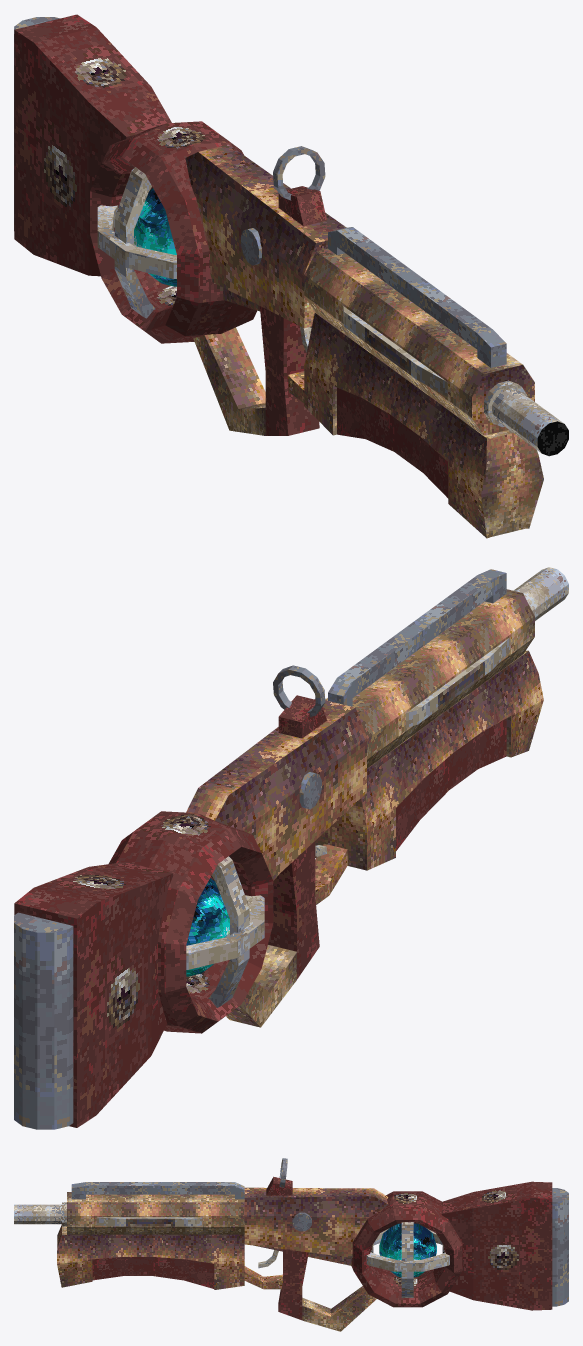
The model's file is overheatBurstColor.fbx.
3 views of the same model, one above another, from view 1: azimuth 30°, elevation 25°; view 2: azimuth 150°, elevation 25°; view 3: azimuth 270°, elevation 25° (orthographic). The views are drawn at different scales.
Visible parts, largest first — view 1: Backholder, BarrelHolder, coreOutline, Reciver, Barrel, Rib, HandleBottom, HandleMain, Muzzle, CoreOutline4, CoreOutline2, rim2 (+3 smaller); view 2: Backholder, BarrelHolder, Reciver, coreOutline, BackholderPad, Barrel, Rib, HandleMain, HandleBottom, CoreOutline4, CoreOutline2, rim2 (+5 smaller); view 3: Backholder, BarrelHolder, Reciver, coreOutline, Barrel, Rib, BackholderPad, HandleBottom, HandleMain, core, Muzzle, CoreOutline3 (+6 smaller).
Boxes of the visible parts, x1,y1,x2,y2 form: Backholder: (14,14,171,276); BarrelHolder: (304,312,543,538); coreOutline: (90,121,256,343); Reciver: (185,144,346,328); Barrel: (304,248,534,435); Rib: (328,227,506,367); HandleBottom: (193,327,265,435); HandleMain: (260,306,319,435); Muzzle: (484,380,568,456); CoreOutline4: (114,167,155,318); CoreOutline2: (97,205,176,279); rim2: (343,306,447,396); Backholder: (14,862,173,1127); BarrelHolder: (315,650,543,870); Reciver: (186,699,366,879); coreOutline: (108,811,273,1033); BackholderPad: (14,912,73,1129); Barrel: (325,589,534,768); Rib: (328,569,506,706); HandleMain: (268,841,319,979); HandleBottom: (226,945,296,1027); CoreOutline4: (208,856,249,1007); CoreOutline2: (186,895,264,969); rim2: (406,637,510,727); Backholder: (441,1181,552,1310); BarrelHolder: (57,1224,244,1289); Reciver: (244,1187,388,1257); coreOutline: (351,1191,462,1307); Barrel: (67,1192,244,1234); Rib: (71,1182,244,1199); BackholderPad: (552,1188,568,1306); HandleBottom: (302,1286,376,1331); HandleMain: (278,1249,308,1320); core: (379,1223,436,1277); Muzzle: (14,1202,66,1226); CoreOutline3: (366,1252,449,1271).
Size of the model in its own units: 55.47 by 121 by 361.
5 materials, 5 textured.
